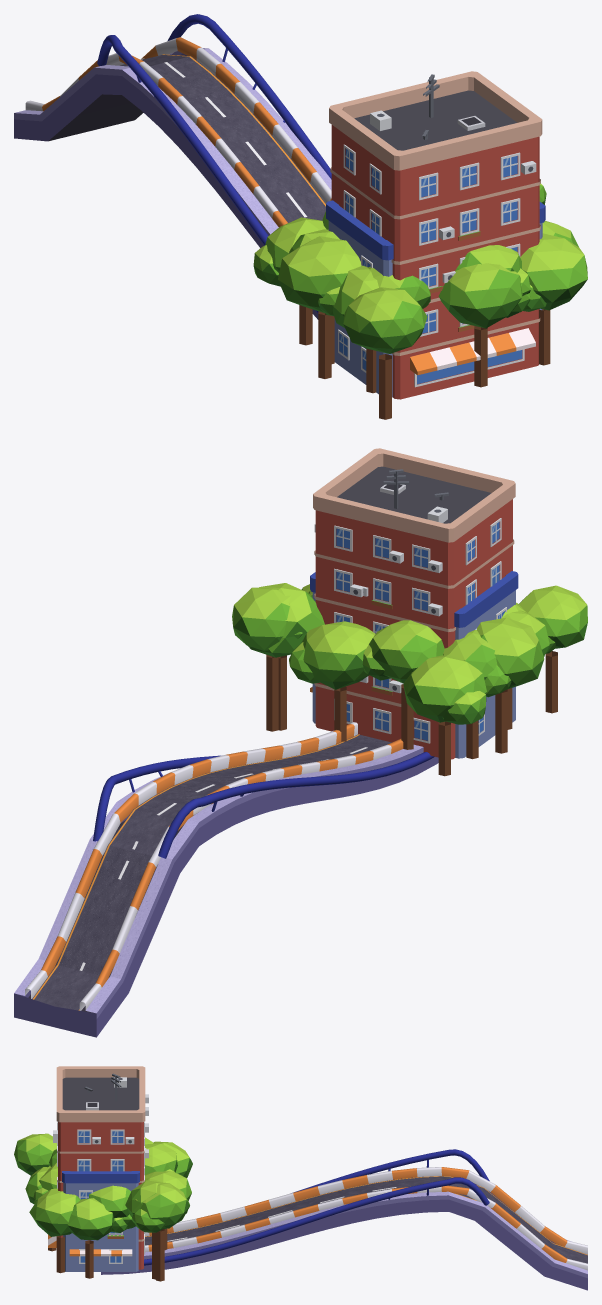
Rendered from MenuKit.fbx.
3 renders of one model, top to bottom at view 1: azimuth 30°, elevation 25°; view 2: azimuth 150°, elevation 25°; view 3: azimuth 270°, elevation 25°, orthographic. The views are drawn at different scales.
Visible parts, largest first — view 1: Menu_Block_Brick, Menu_Bridge, Menu_TreeCluster_B, Menu_TreeCluster_A, Menu_Block_BlueGrey; view 2: Menu_Bridge, Menu_Block_Brick, Menu_TreeCluster_B, Menu_TreeCluster_A, Menu_Block_BlueGrey; view 3: Menu_Bridge, Menu_Block_Brick, Menu_TreeCluster_B, Menu_TreeCluster_A, Menu_Block_BlueGrey.
Boxes of the visible parts, x1,y1,x2,y2 form: Menu_Block_Brick: [329, 71, 542, 399]; Menu_Bridge: [14, 14, 331, 319]; Menu_TreeCluster_B: [253, 217, 587, 419]; Menu_TreeCluster_A: [289, 183, 578, 393]; Menu_Block_BlueGrey: [326, 200, 545, 397]; Menu_Bridge: [14, 722, 438, 1037]; Menu_Block_Brick: [310, 448, 515, 759]; Menu_TreeCluster_B: [232, 585, 587, 776]; Menu_TreeCluster_A: [248, 583, 549, 759]; Menu_Block_BlueGrey: [310, 571, 518, 758]; Menu_Bridge: [101, 1149, 587, 1290]; Menu_Block_Brick: [48, 1066, 148, 1269]; Menu_TreeCluster_B: [14, 1133, 192, 1281]; Menu_TreeCluster_A: [33, 1137, 181, 1279]; Menu_Block_BlueGrey: [62, 1171, 139, 1271].
Bounding box in the file's own units: 12.22 × 12.94 × 33.
Materials: 3 (3 with a texture image).
